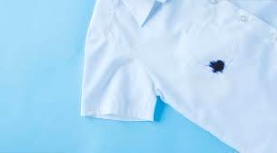ink: (209, 60, 225, 73)
